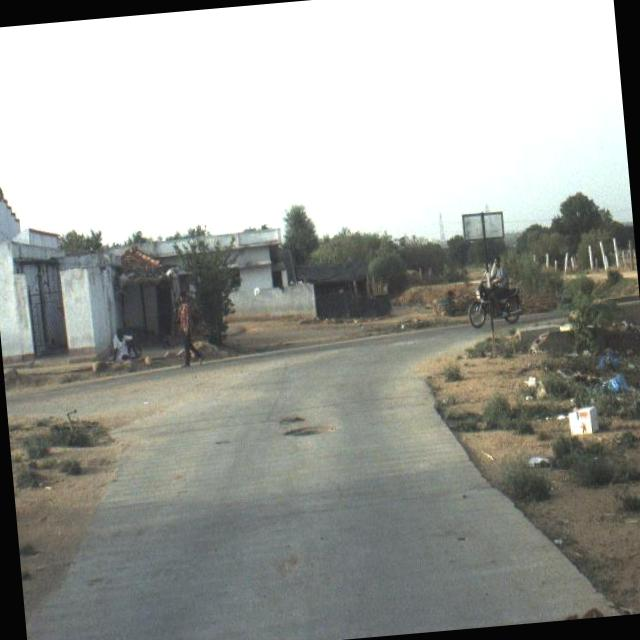pothole: (249, 360, 354, 474)
